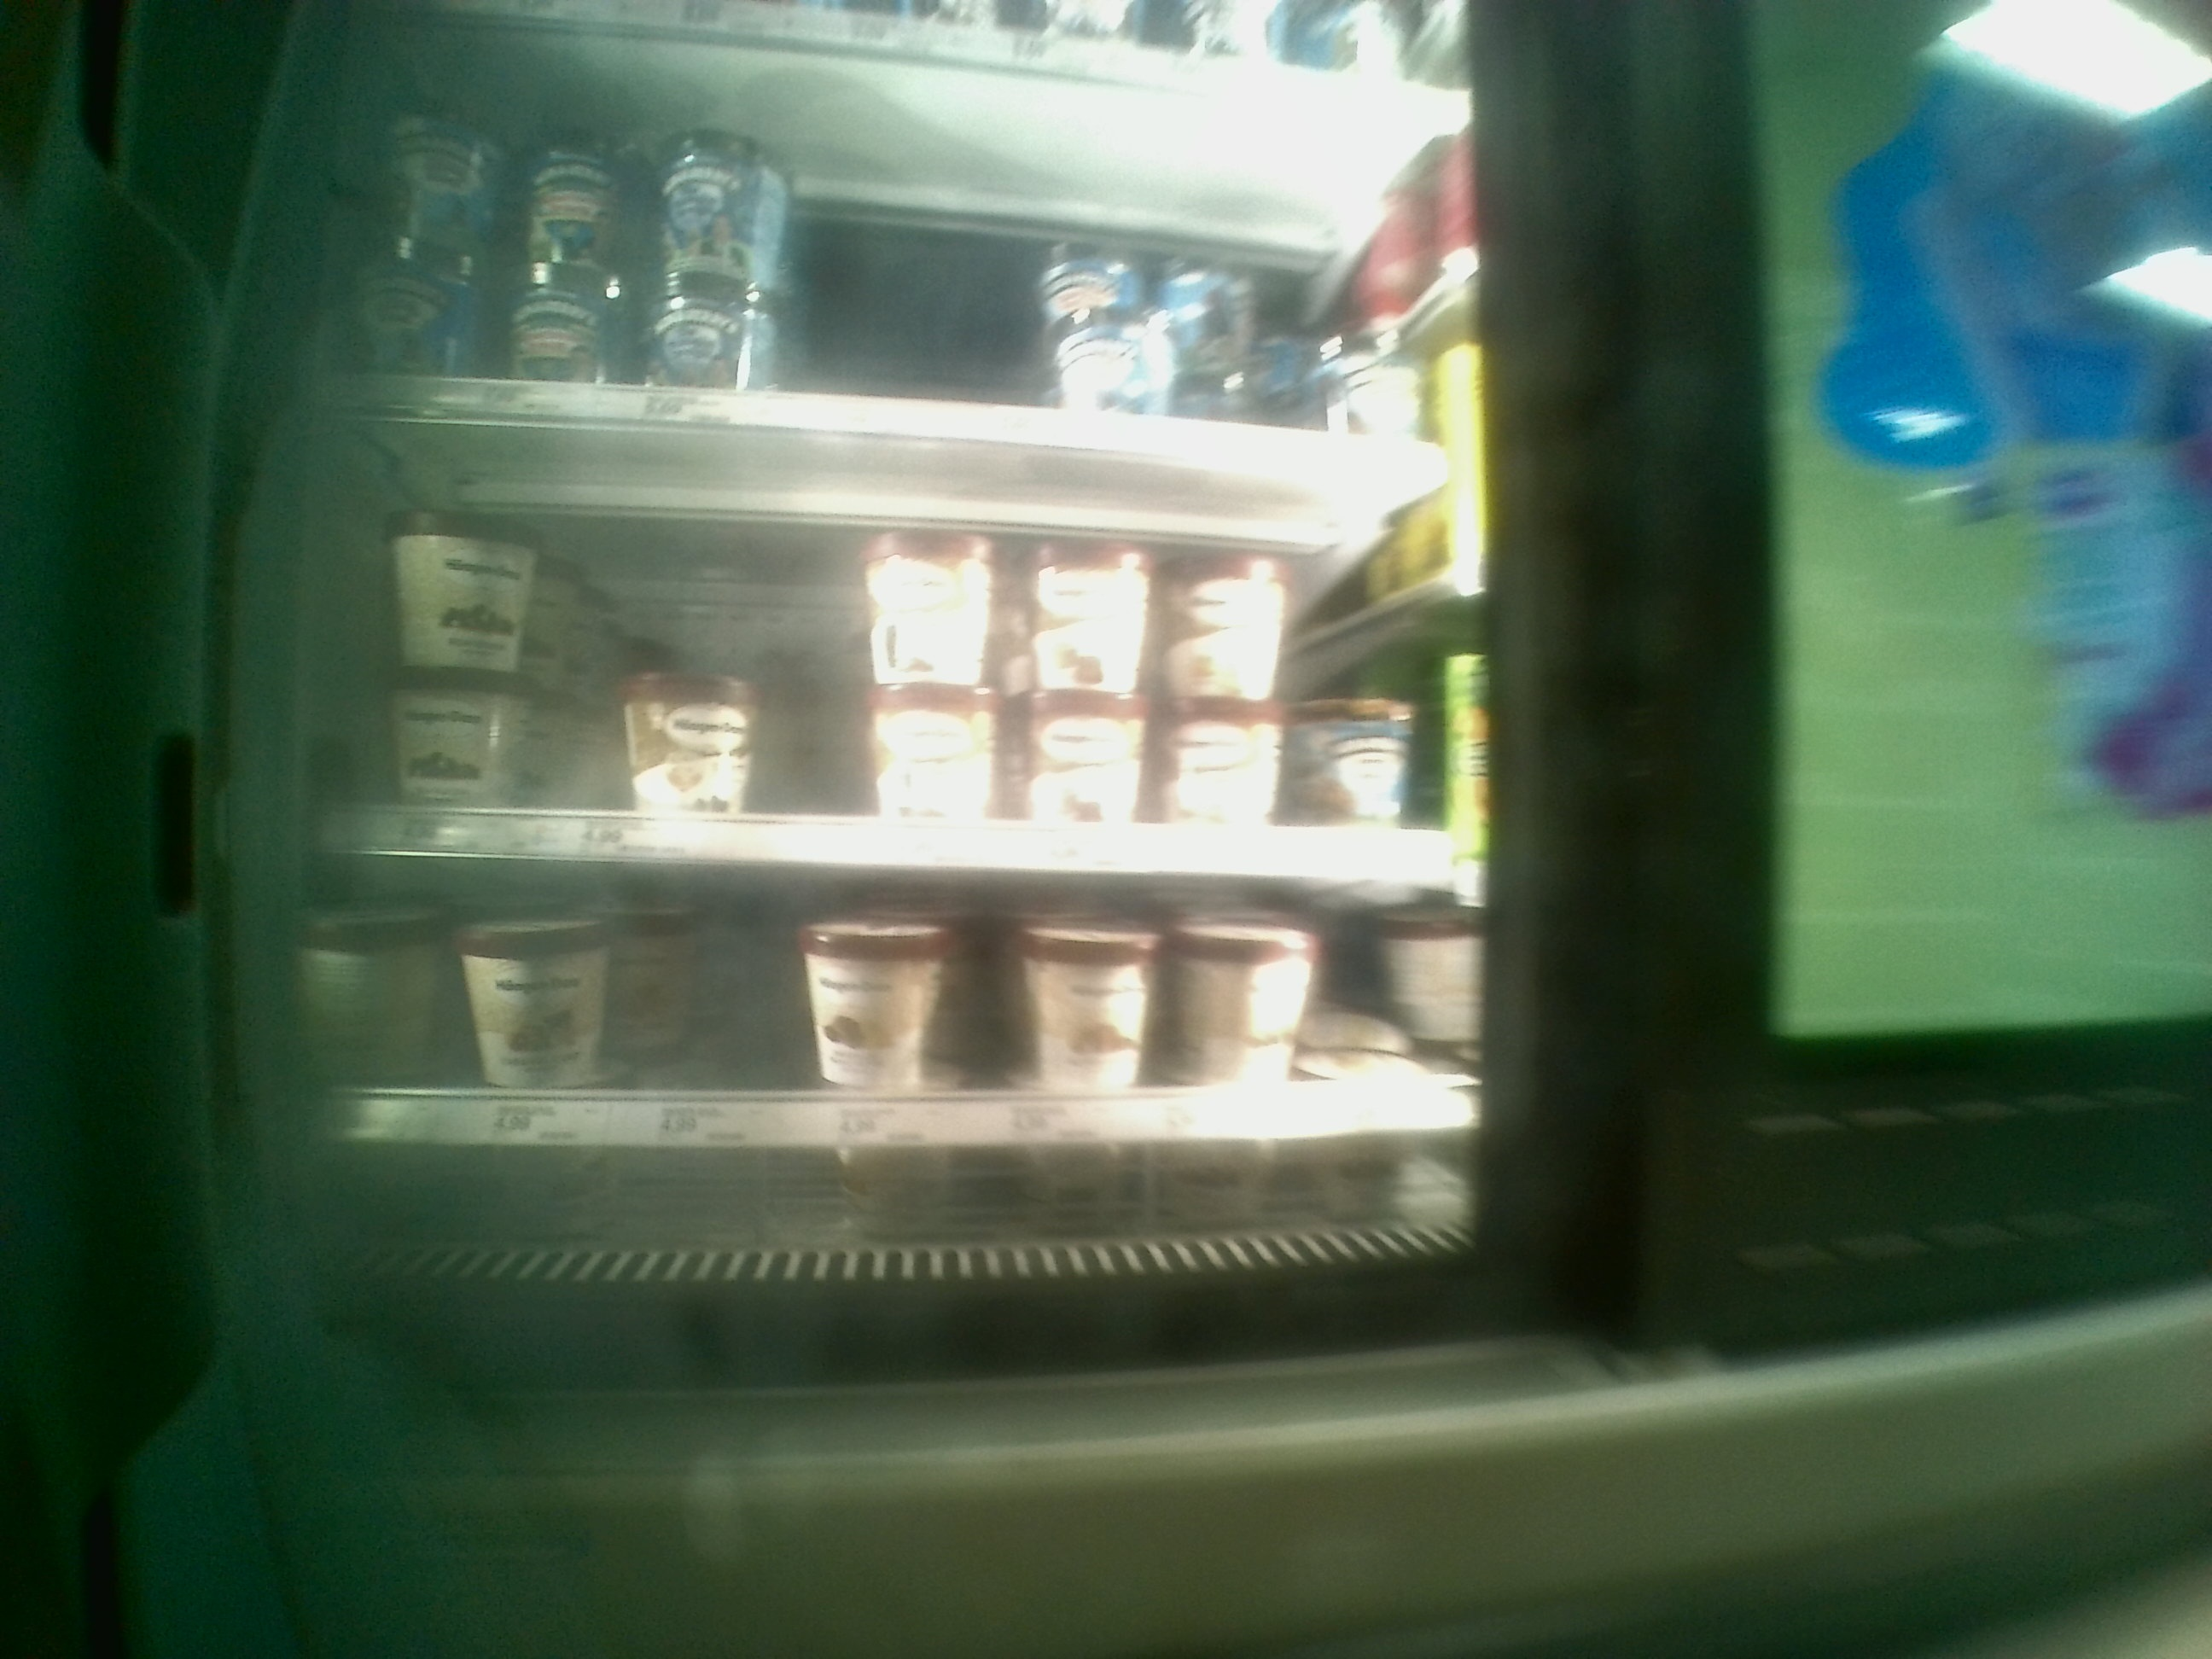shelf: (319, 413, 1463, 863), (319, 857, 1501, 1225)
